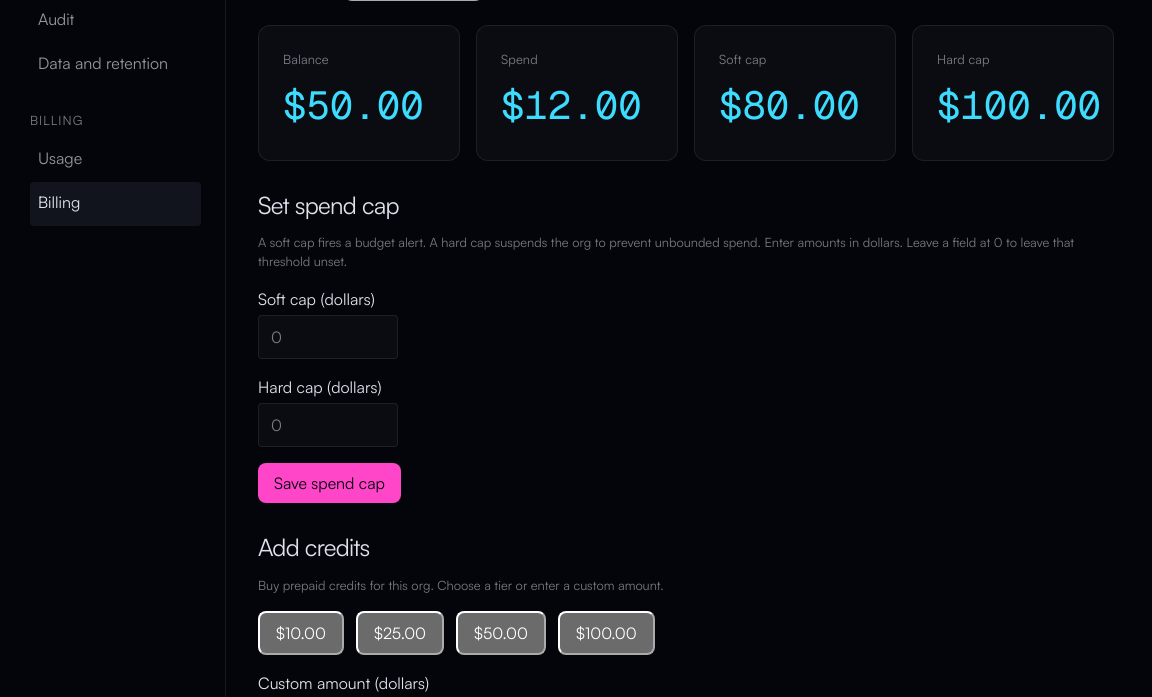
Scenario: Billing view › posts the caps to /console/billing/spend-cap and shows confirmation
This screenshot has width=1152, height=697.
(page scrolled)
Type "20" into the number field labelled "Soft cap (dollars)" at (328, 338), box [258, 316, 398, 360]
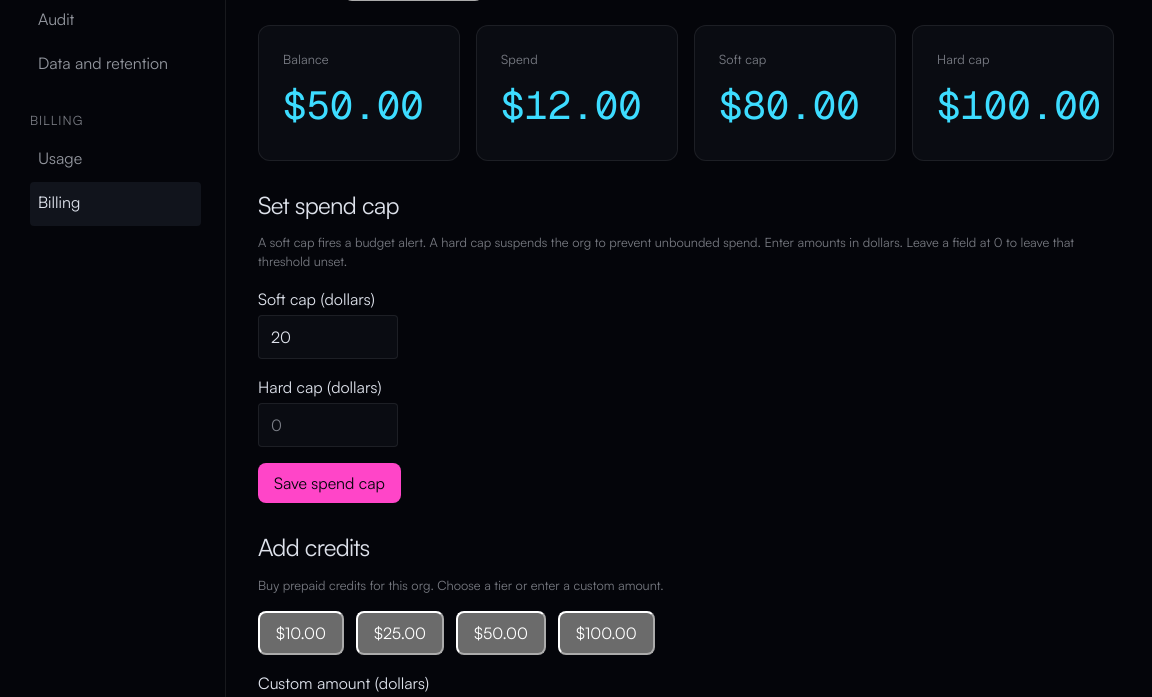
Type "50" into the number field labelled "Hard cap (dollars)" at (328, 426), box [258, 404, 398, 448]
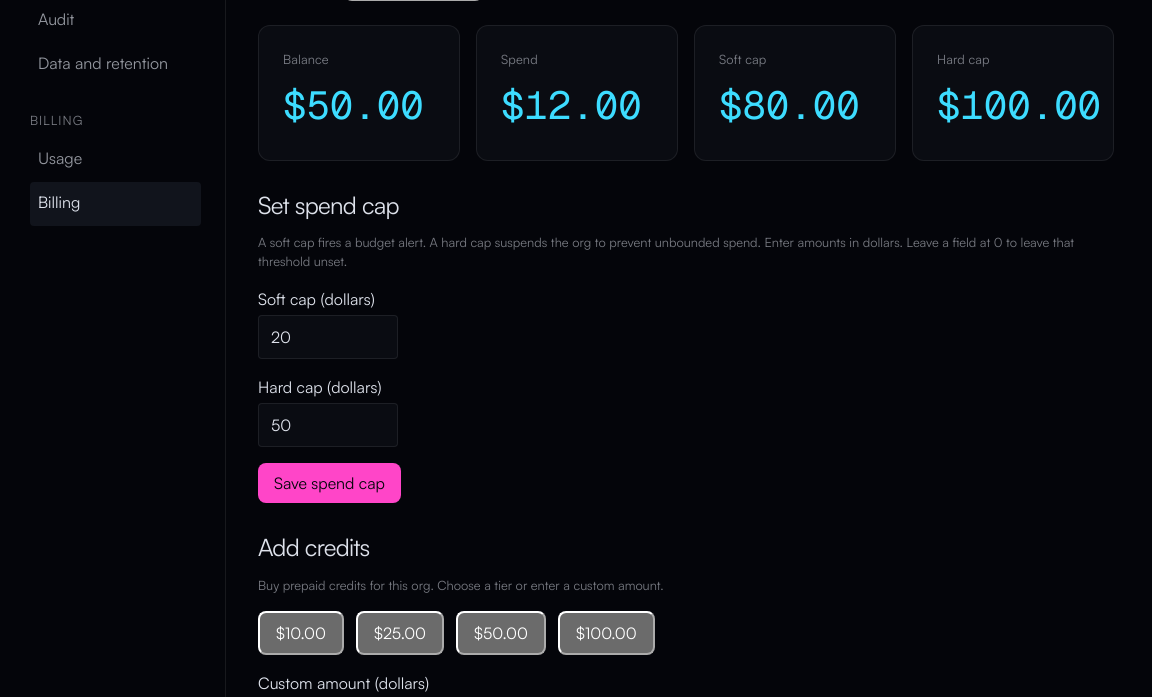
Click the button "Save spend cap" at (329, 484), box [258, 464, 401, 504]
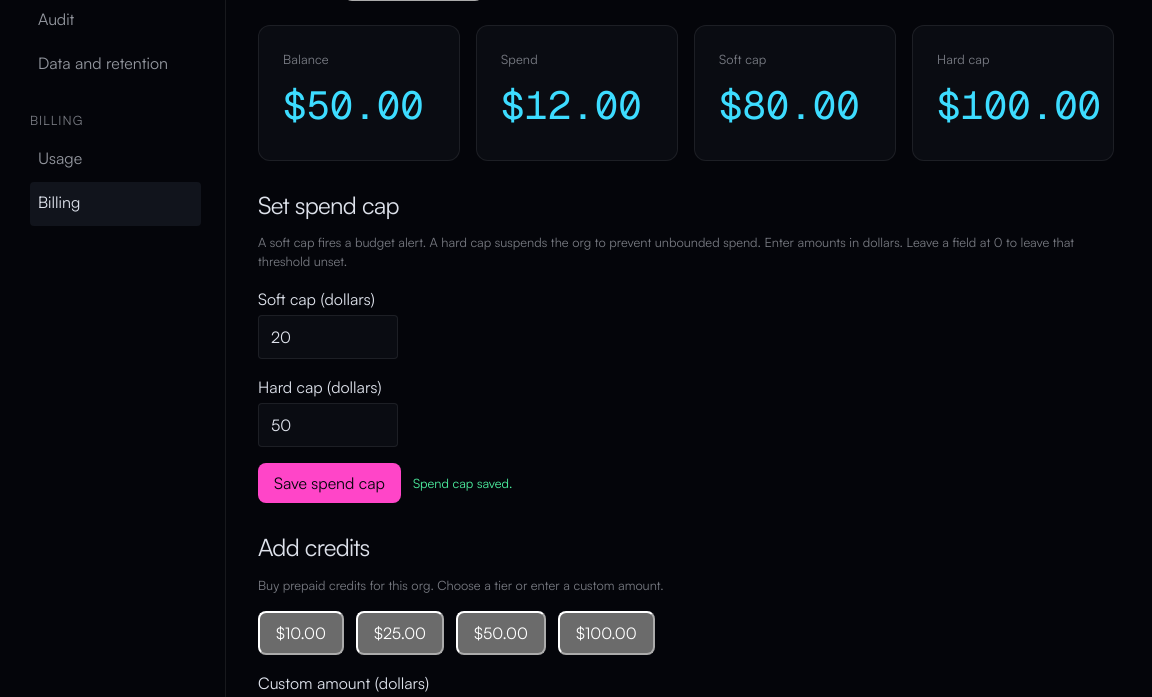
Result: the text "Spend cap saved." is shown at [413, 474, 512, 493]
